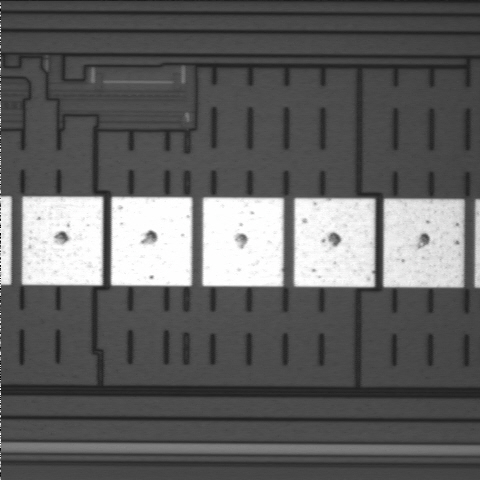pad: (202, 197, 284, 287), (111, 197, 192, 286), (294, 198, 375, 287), (22, 197, 103, 285), (383, 199, 464, 287)
